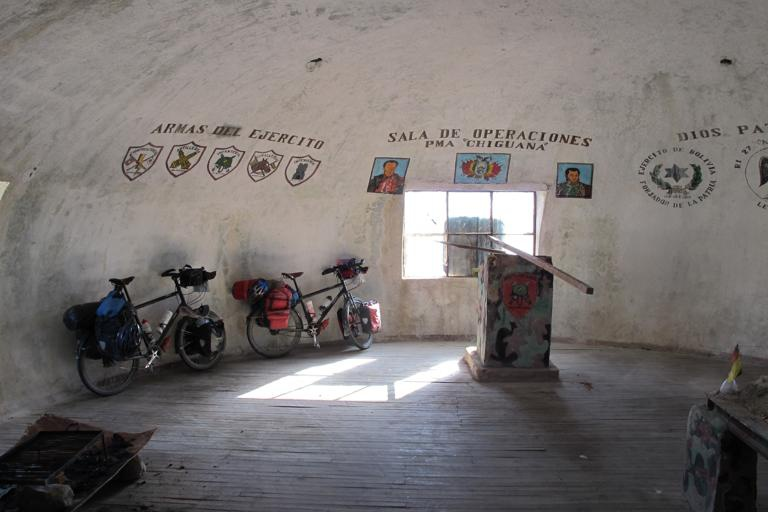non-vehicle: (73, 264, 226, 397), (245, 258, 373, 360)
